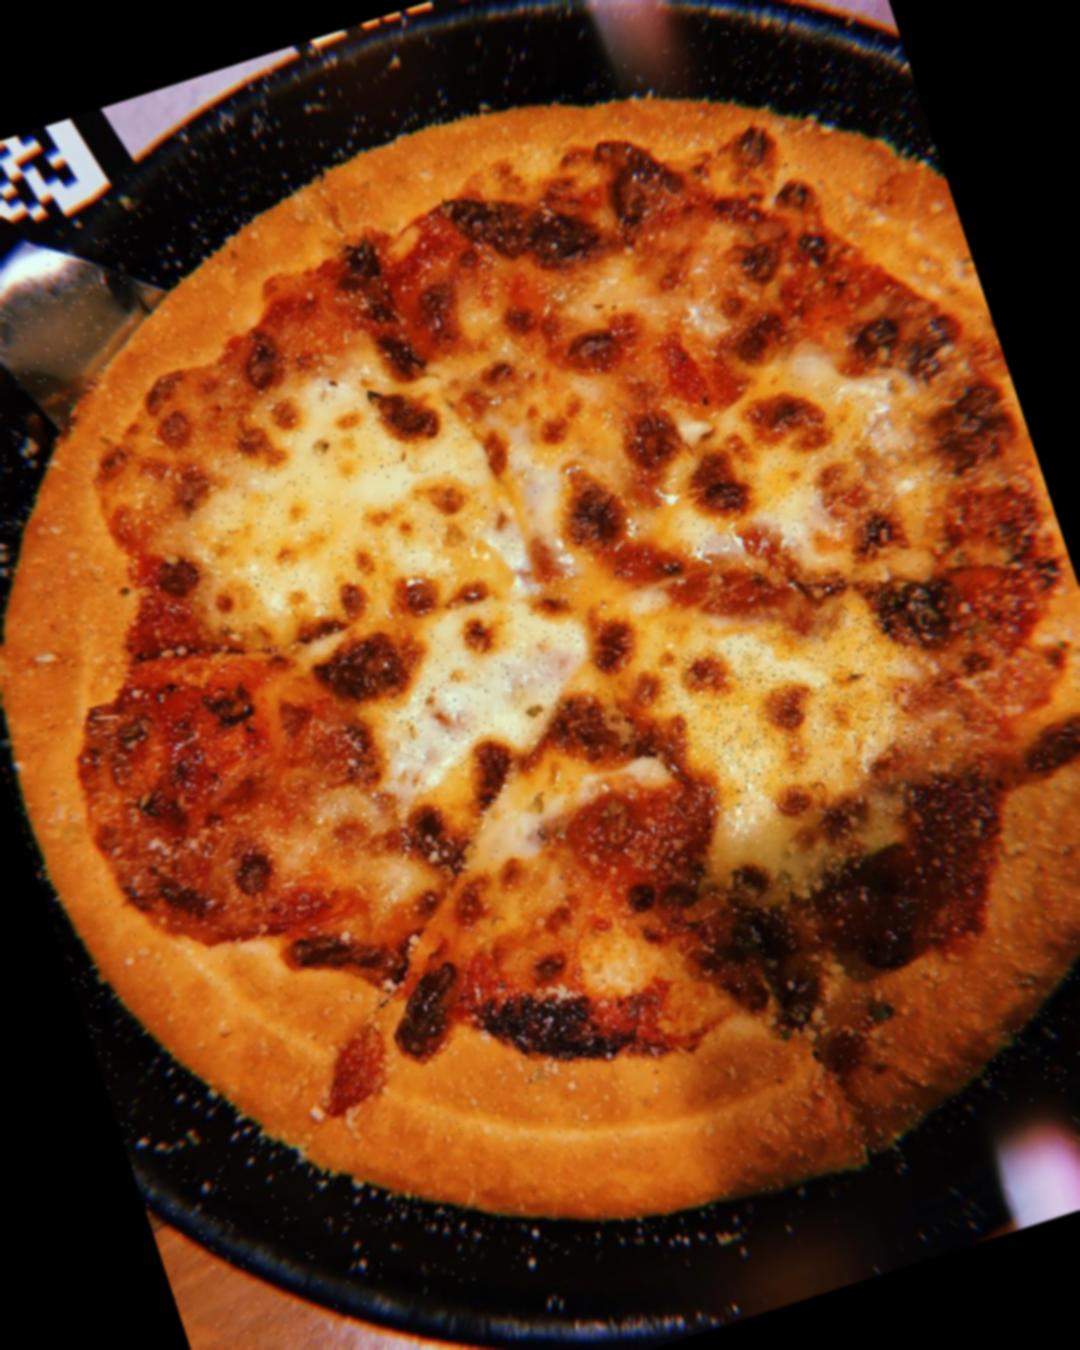Cheese: (191, 397, 517, 638), (651, 587, 938, 824), (347, 573, 622, 804), (654, 376, 935, 585)
Pizza: (0, 0, 1080, 1350)
